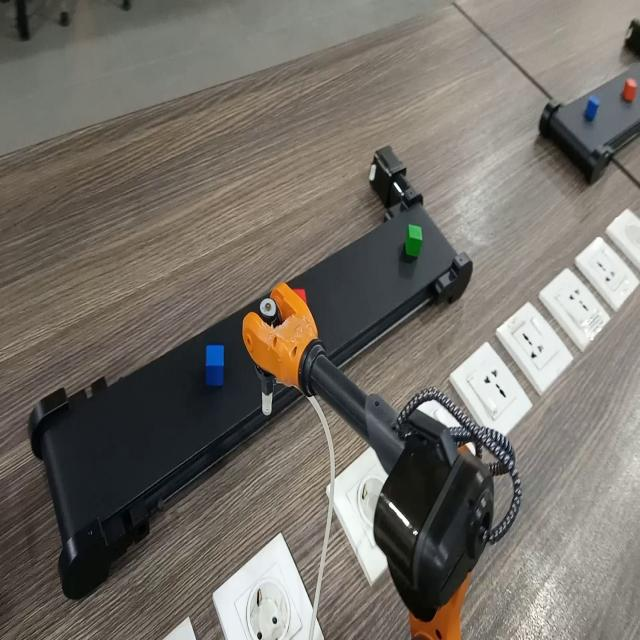cube: (203, 338, 234, 391), (401, 220, 432, 265), (584, 92, 601, 122), (623, 77, 639, 108)
